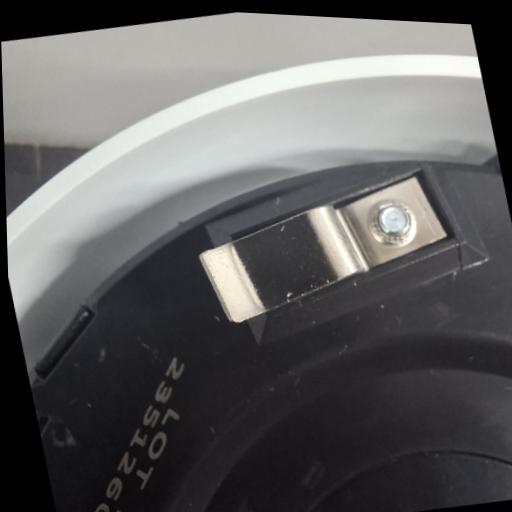yaysiz: (187, 156, 464, 339)
